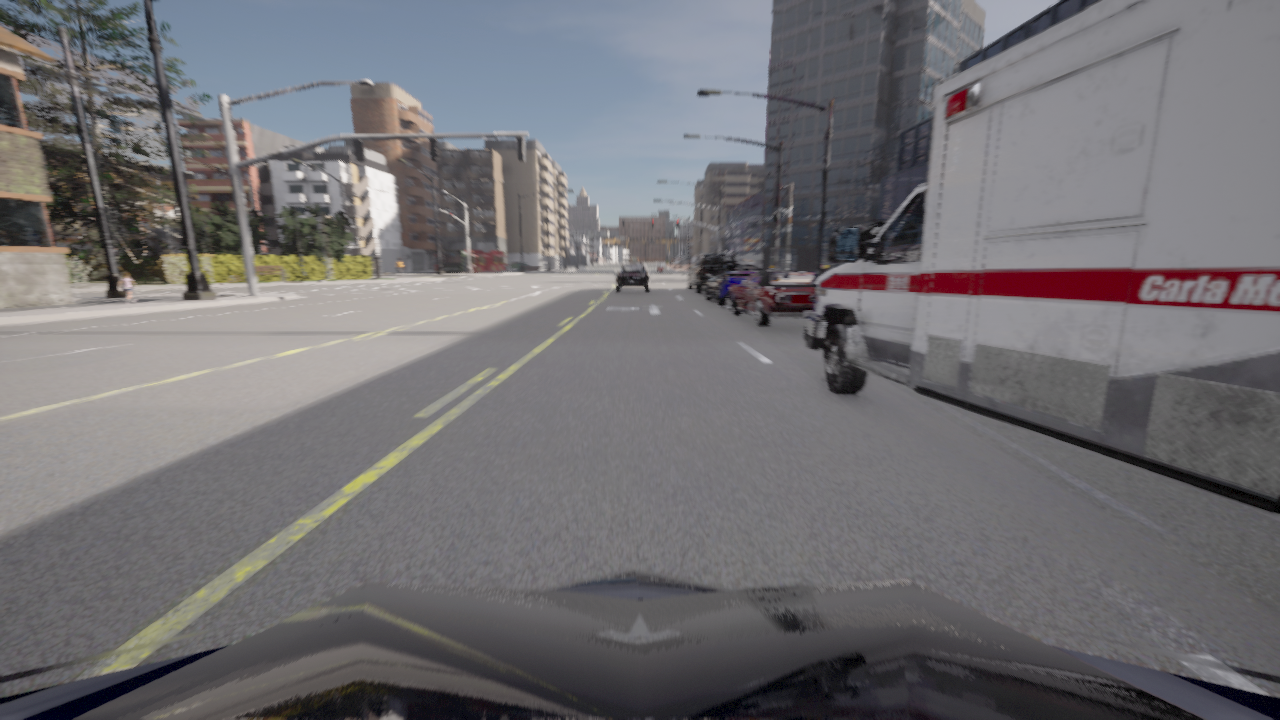cyclist: (804, 0, 1279, 513), (0, 569, 1279, 719), (730, 269, 821, 325), (704, 263, 763, 305), (687, 253, 736, 293), (615, 264, 651, 291), (858, 221, 887, 254), (636, 263, 646, 269), (656, 264, 663, 271)
pedestrian: (119, 272, 137, 303), (396, 258, 404, 277)
